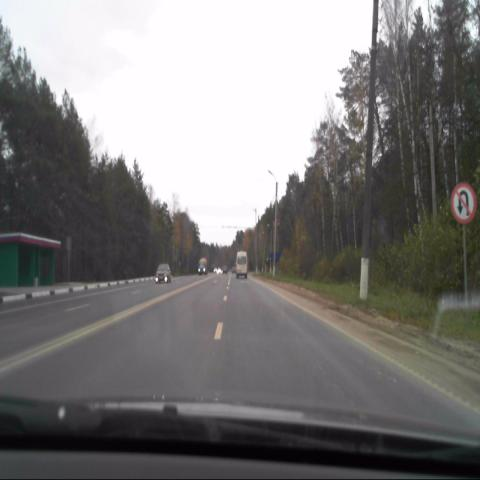3_19: (448, 180, 477, 227)
